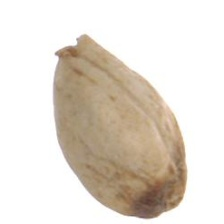L1: (143, 177, 186, 219), (54, 32, 91, 63)
L2: (52, 35, 188, 218)
